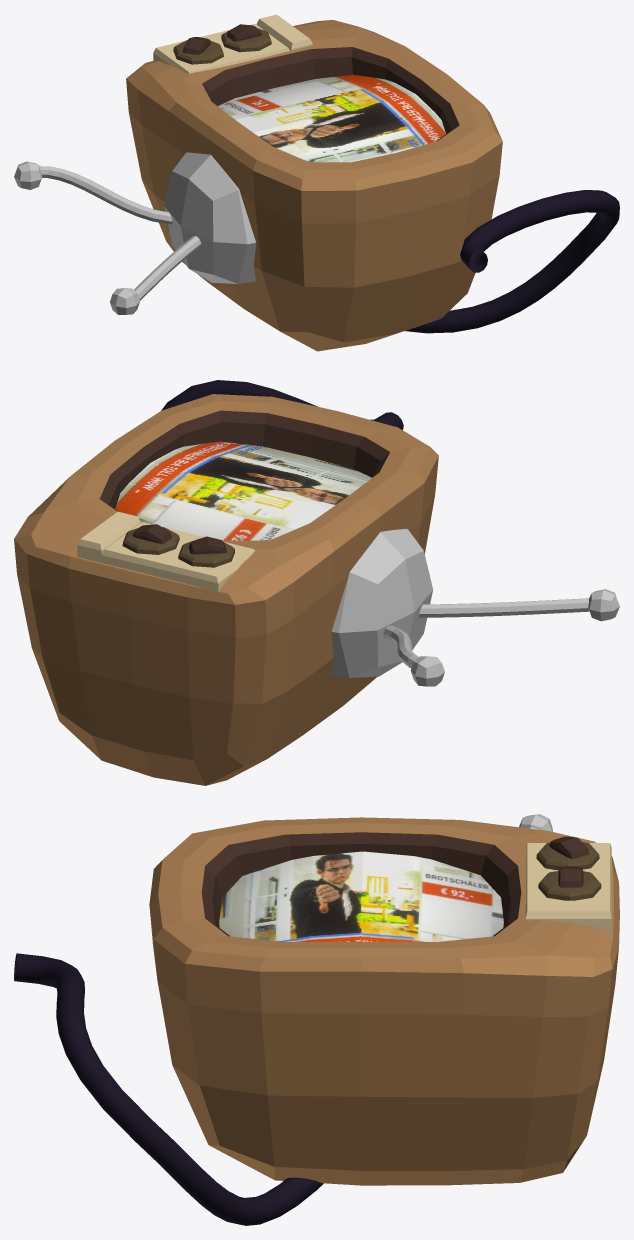
Rendered from yesShopping.fbx.
The picture shows the model from 3 angles, top to bottom: view 1: azimuth 30°, elevation 25°; view 2: azimuth 150°, elevation 25°; view 3: azimuth 270°, elevation 25°; orthographic projection. The views are drawn at different scales.
Visible parts, largest first — view 1: Cube, OxMVhE, BézierCurve.002, Cube.001, Cube.006, BézierCurve.001, BézierCurve, Cube.005, Cube.004, Cube.002, Cube.003; view 2: Cube, OxMVhE, Cube.001, Cube.006, BézierCurve, BézierCurve.002, Cube.004, Cube.005, Cube.003, Cube.002, BézierCurve.001; view 3: Cube, OxMVhE, BézierCurve.002, Cube.006, Cube.005, Cube.004.
Part boxes in pixels (x1,y1,x2,y2): Cube: [126, 20, 502, 351]; OxMVhE: [218, 75, 445, 162]; BézierCurve.002: [405, 190, 619, 333]; Cube.001: [164, 152, 256, 283]; Cube.006: [153, 14, 312, 73]; BézierCurve.001: [40, 166, 172, 224]; BézierCurve: [134, 236, 201, 300]; Cube.005: [221, 24, 271, 52]; Cube.004: [173, 37, 223, 64]; Cube.002: [110, 288, 139, 314]; Cube.003: [14, 161, 42, 189]; Cube: [14, 394, 438, 785]; OxMVhE: [115, 441, 371, 540]; Cube.001: [331, 528, 433, 677]; Cube.006: [77, 511, 254, 593]; BézierCurve: [419, 598, 589, 617]; BézierCurve.002: [161, 380, 403, 429]; Cube.004: [178, 536, 234, 567]; Cube.005: [122, 524, 179, 554]; Cube.003: [410, 656, 444, 686]; Cube.002: [588, 589, 619, 621]; BézierCurve.001: [383, 625, 418, 668]; Cube: [149, 817, 619, 1185]; OxMVhE: [219, 851, 503, 941]; BézierCurve.002: [14, 953, 323, 1225]; Cube.006: [525, 843, 611, 932]; Cube.005: [538, 866, 601, 900]; Cube.004: [536, 836, 599, 870].
Bounding box in the file's own units: 378 × 187 × 345.
